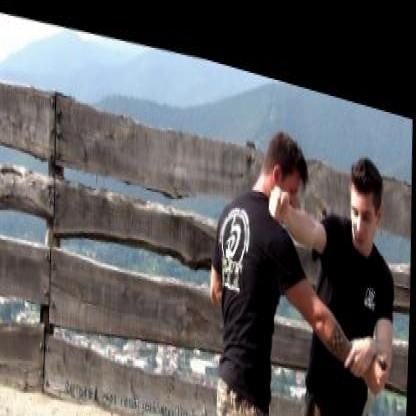knife: (358, 323, 394, 408)
